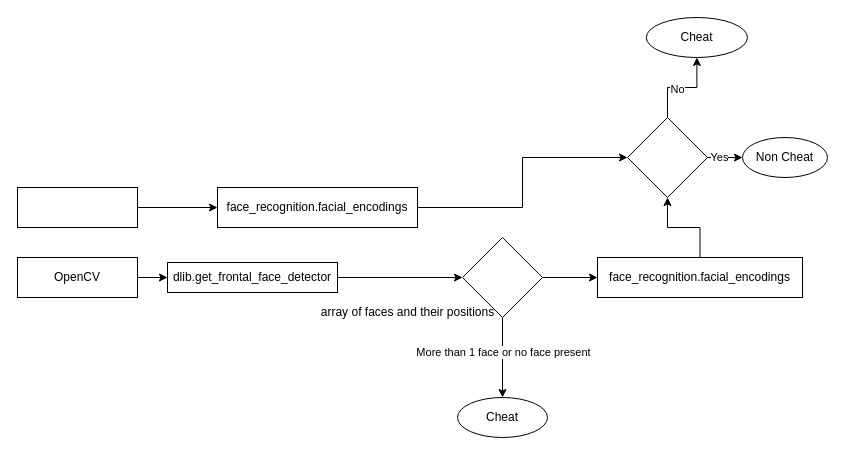
Image size: 845x455. Some labels were removed from this diagram. Each missing label, with the box of its shape:
face encodings match?: (626, 116, 708, 198)
How many faces?: (462, 236, 542, 318)
Student photo: (16, 186, 138, 228)
